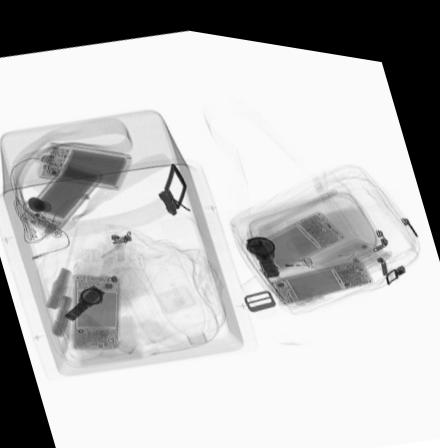Lighter: (266, 247, 313, 259)
